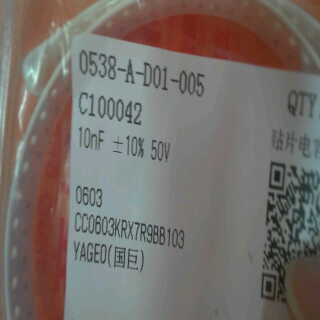10nF: (76, 123, 105, 151)
